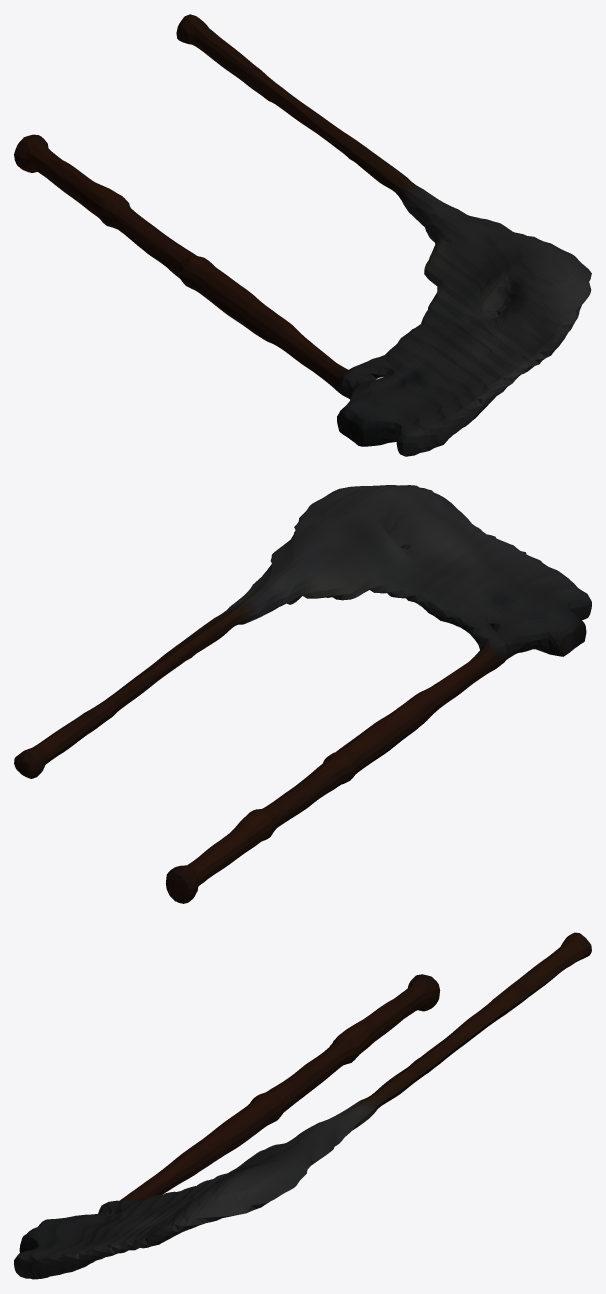
Rendered from COMBAT AX_1749666315.obj.
3 renders of one model, top to bottom at view 1: azimuth 30°, elevation 25°; view 2: azimuth 150°, elevation 25°; view 3: azimuth 330°, elevation 25°, orthographic. The views are drawn at different scales.
Bounding box in the file's own units: 0.6885 × 0.324 × 1.96.
